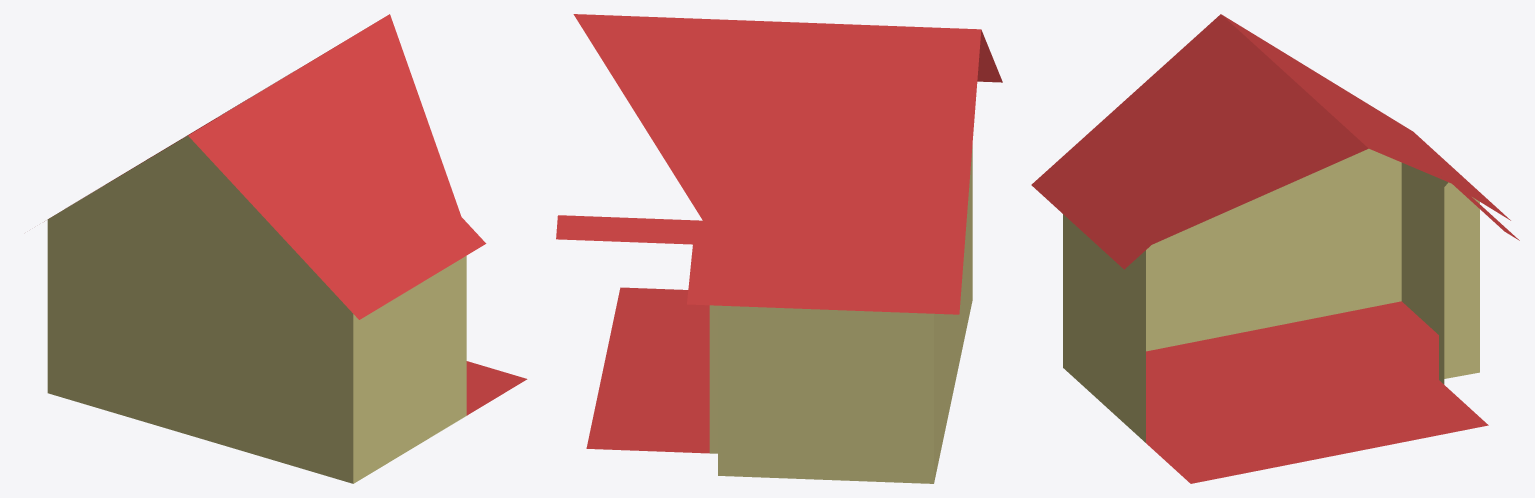
3 renders of one model, left to right at view 1: azimuth 30°, elevation 25°; view 2: azimuth 150°, elevation 25°; view 3: azimuth 270°, elevation 25°, orthographic. The views are drawn at different scales.
Bounding box in the file's own units: 19.31 × 20.38 × 14.3.
